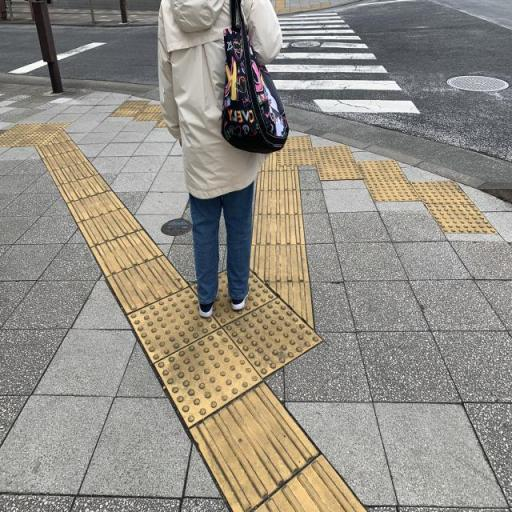dot: (152, 326, 264, 429), (224, 297, 324, 380), (128, 287, 223, 362)
line: (190, 381, 322, 511), (256, 456, 371, 511)
